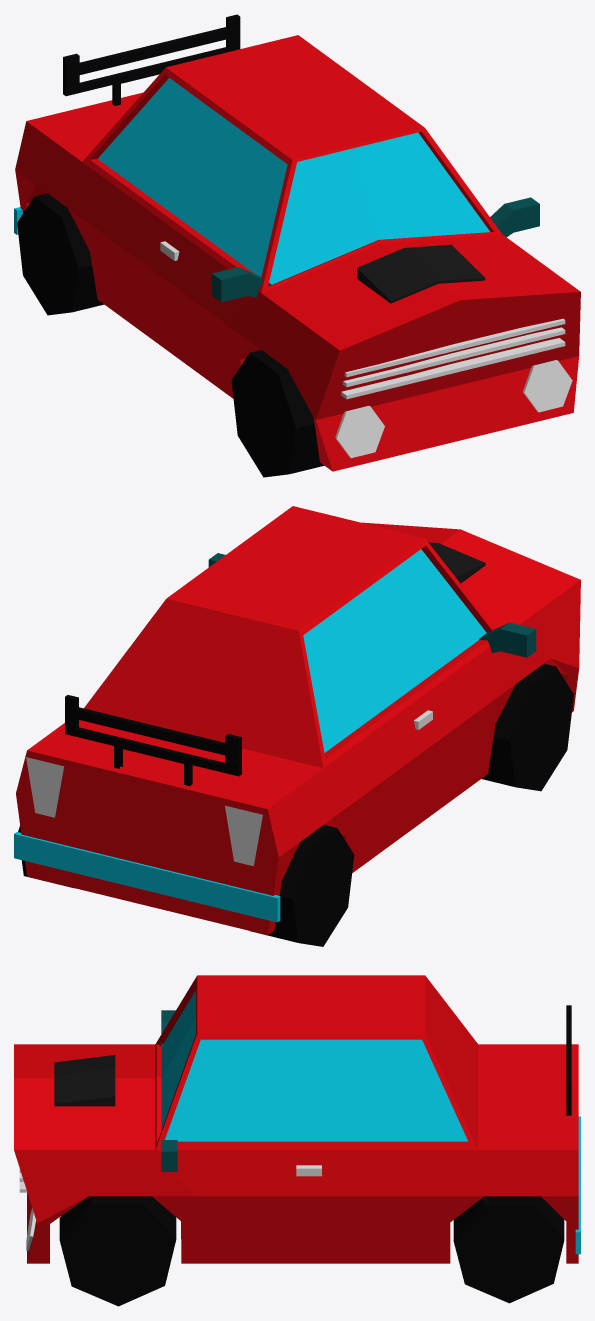
Rendered from red_car.fbx.
3 renders of one model, top to bottom at view 1: azimuth 30°, elevation 25°; view 2: azimuth 150°, elevation 25°; view 3: azimuth 270°, elevation 25°, orthographic. The views are drawn at different scales.
Visible parts, largest first — view 1: Cube.022, Cylinder.007, Cylinder.008, Cube.023, Cube.024, Cube.025, Circle, Circle.001, Cube.026, Cube.027, Cube.028; view 2: Cube.022, Cylinder.007, Cube.031, Cylinder.008, Cube.023, Plane.001, Plane, Cube.027; view 3: Cube.022, Cylinder.005, Cylinder.006, Cube.023, Cube.028, Cube.031.
Part boxes in pixels (left/top/right/bottom): Cube.022: left=15, top=35, right=580, bottom=471; Cylinder.007: left=231, top=350, right=324, bottom=477; Cylinder.008: left=17, top=193, right=103, bottom=315; Cube.023: left=63, top=14, right=240, bottom=105; Cube.024: left=340, top=338, right=565, bottom=399; Cube.025: left=342, top=327, right=565, bottom=387; Circle: left=335, top=406, right=384, bottom=458; Circle.001: left=523, top=360, right=572, bottom=412; Cube.026: left=344, top=318, right=565, bottom=377; Cube.027: left=212, top=267, right=271, bottom=302; Cube.028: left=490, top=197, right=539, bottom=237; Cube.022: left=16, top=506, right=580, bottom=935; Cylinder.007: left=481, top=663, right=573, bottom=791; Cube.031: left=14, top=832, right=280, bottom=922; Cylinder.008: left=250, top=825, right=354, bottom=946; Cube.023: left=65, top=695, right=241, bottom=786; Plane.001: left=225, top=805, right=262, bottom=866; Plane: left=26, top=757, right=63, bottom=817; Cube.027: left=479, top=622, right=536, bottom=657; Cube.022: left=14, top=975, right=578, bottom=1263; Cylinder.005: left=59, top=1196, right=176, bottom=1306; Cylinder.006: left=453, top=1196, right=564, bottom=1303; Cube.023: left=566, top=1005, right=571, bottom=1115; Cube.028: left=161, top=1140, right=177, bottom=1171; Cube.031: left=575, top=1116, right=580, bottom=1254.
Size of the model in its own units: 291 by 233 by 497.
